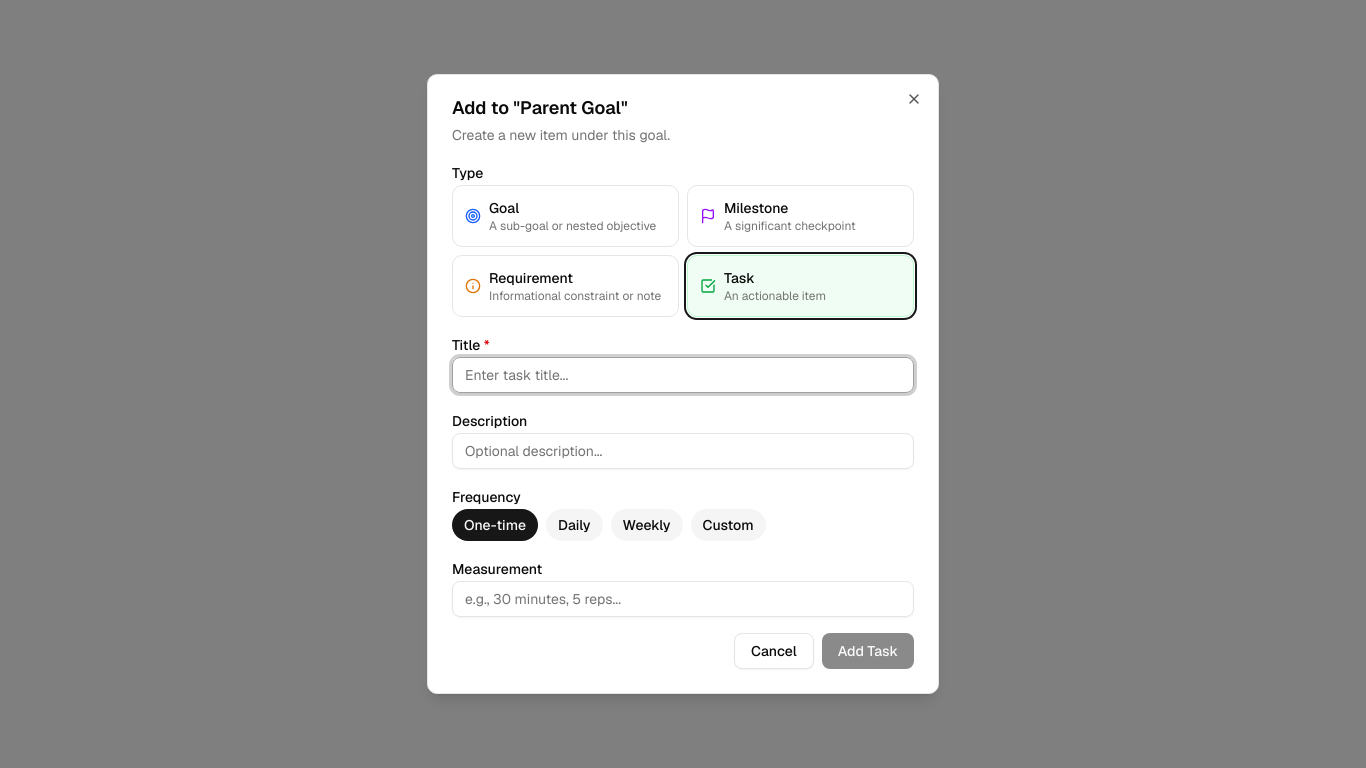
Test: AddChildDialog › form submission › enables submit button when title is provided
Type "My Task" into the field with test id "title-input".
click(683, 375); type("My Task")  # box [452,357,914,393]
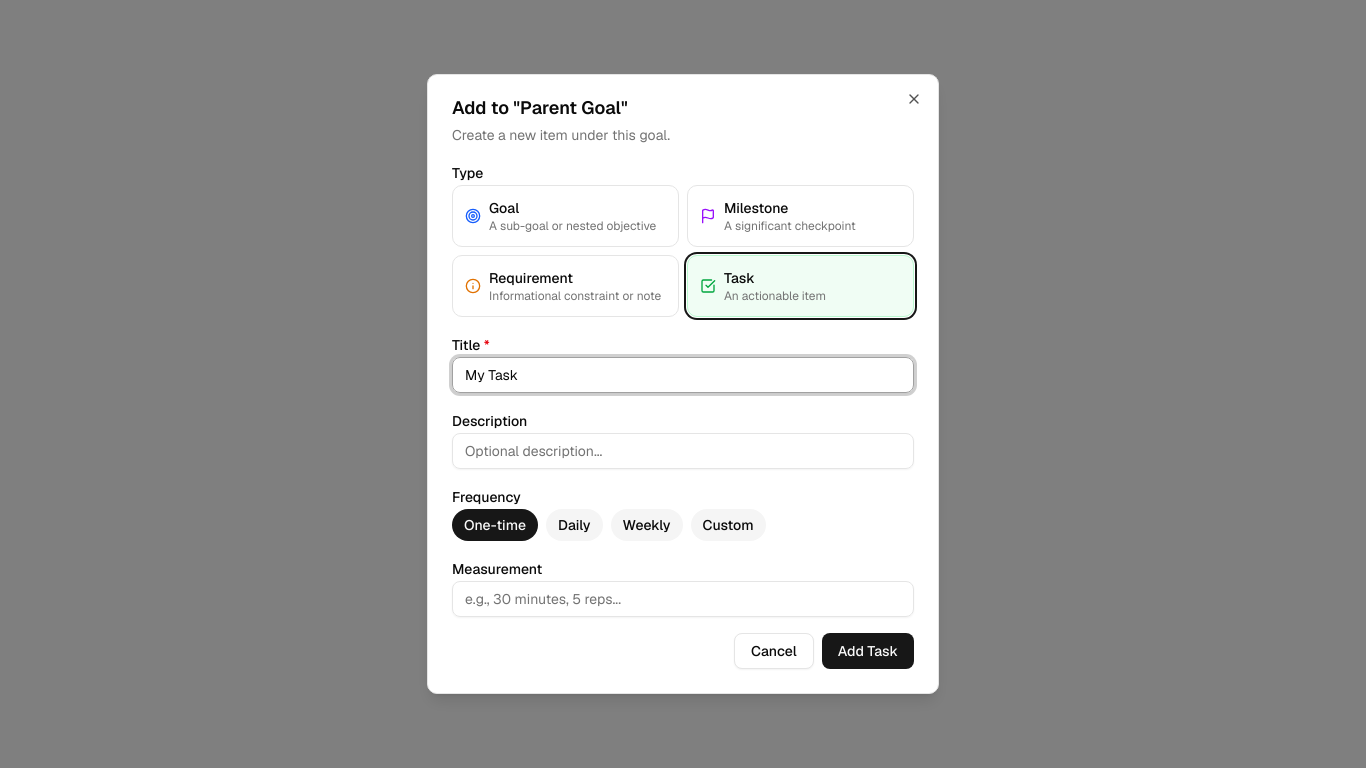
Expected: the button with test id "submit-button" is enabled, [822,633,914,669]
